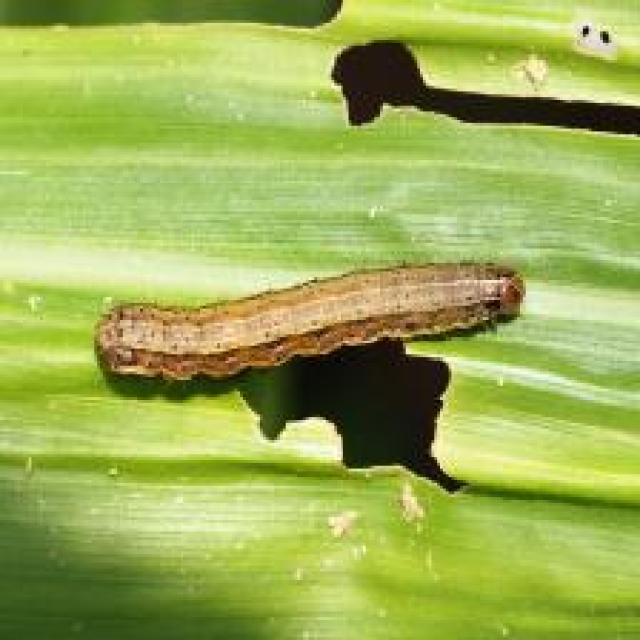Plaga: (70, 254, 533, 399)
